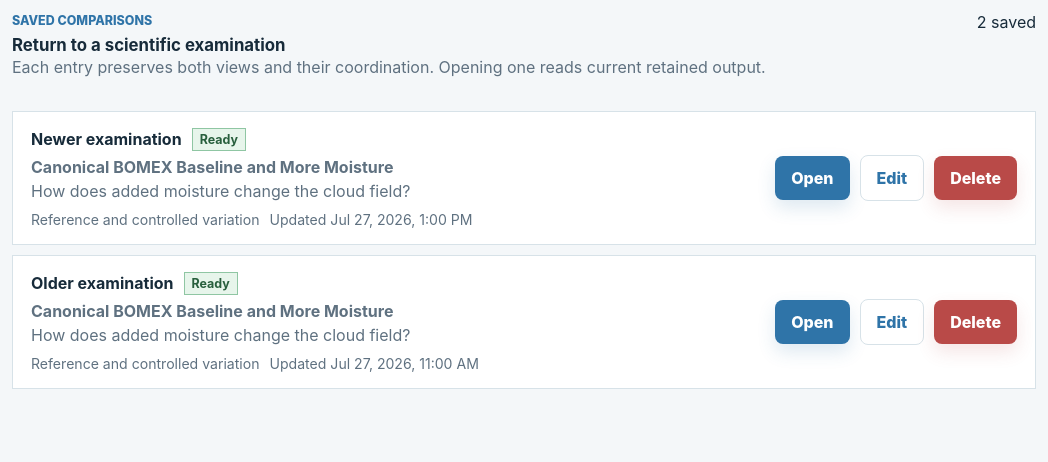
Test: Saved Comparisons › keeps the collection ordered by most recently updated after an edit
The width and height of the screenshot is (1048, 462).
Expected: the heading "Newer examination" is shown, [31,129,182,149]
Expected: the headings read "Newer examination", "Older examination", in this order, [31,129,182,149]; [31,273,174,293]
Click the 2nd button "Edit": (892, 322) [860,299,924,345]
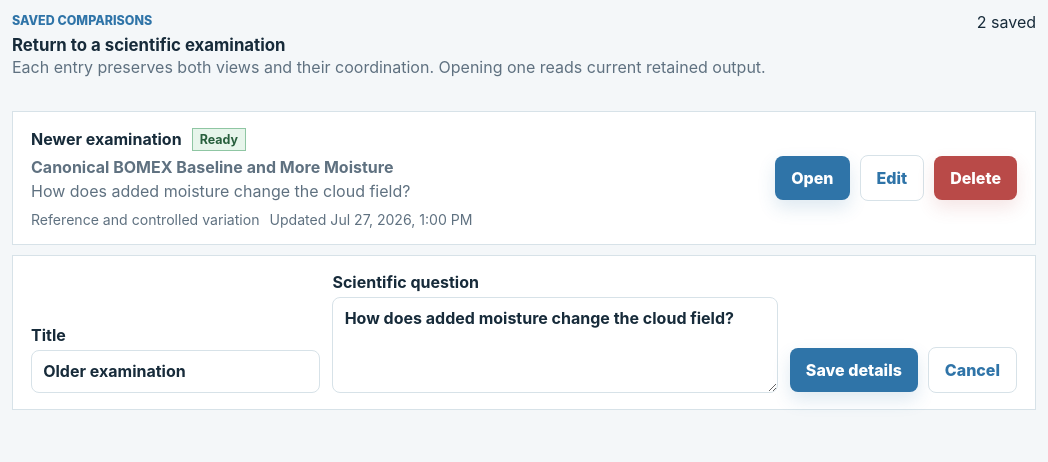
Replace the text in the field labelled "Title" with "Recently edited examination": (176, 371) [31,350,320,393]
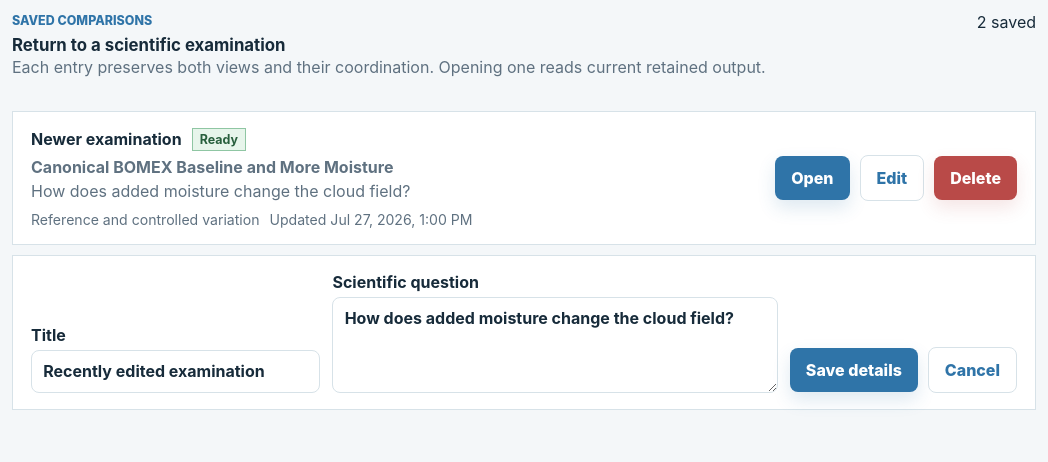
Click the button "Save details": (854, 370) [790,348,918,392]
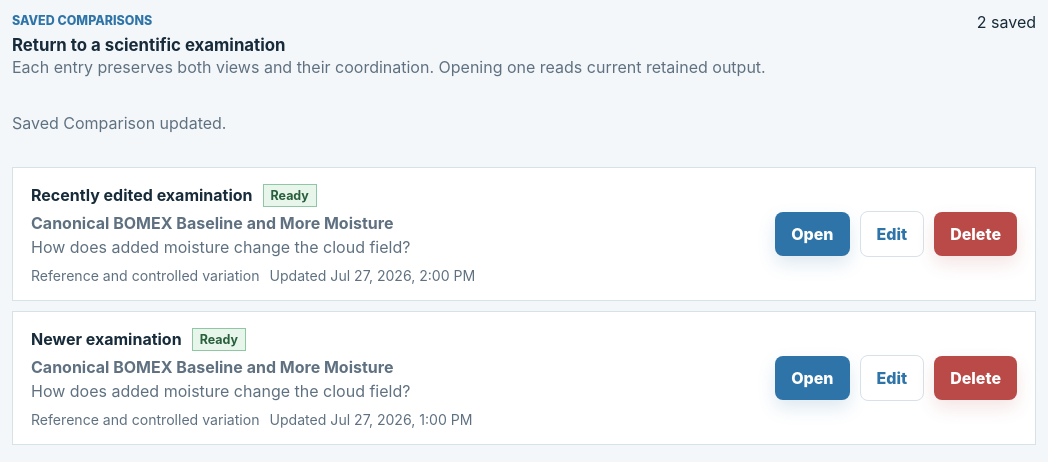
Now the heading "Recently edited examination" is shown, box [31,185,252,205]
Now the headings read "Recently edited examination", "Newer examination", in this order, box [31,185,252,205]; [31,329,182,349]
